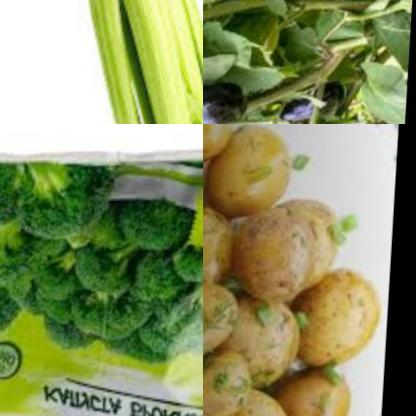broccoli: (0, 163, 203, 367)
celery: (66, 0, 203, 124)
eggplant: (203, 79, 274, 124)
potato: (239, 202, 351, 302), (295, 273, 389, 374), (211, 124, 296, 217), (270, 356, 368, 416), (245, 293, 308, 385), (203, 187, 251, 295), (203, 345, 260, 416), (203, 378, 304, 416), (203, 280, 247, 364)
